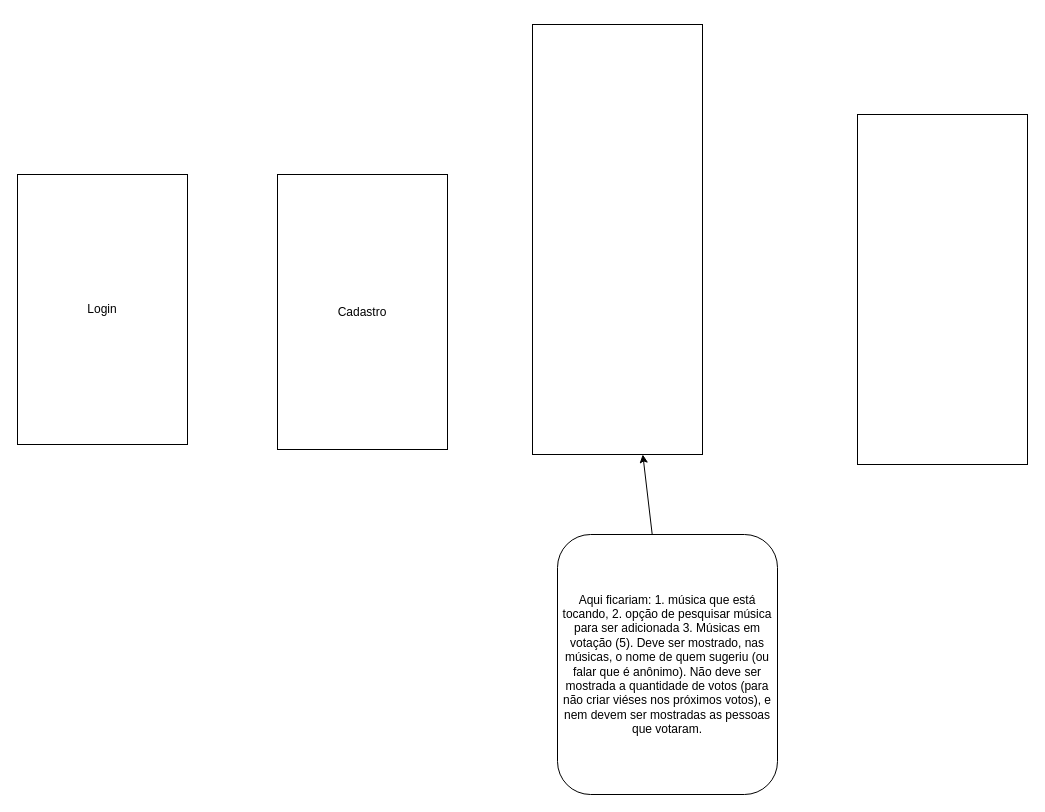
This 1045x812 diagram has some shape labels left out. Here are the shapes that lost their labels. From the top down, the box of each, then its label:
(532, 24, 702, 454): Tela inicial.
(856, 114, 1028, 464): Pesquisar música a ser adicionada
